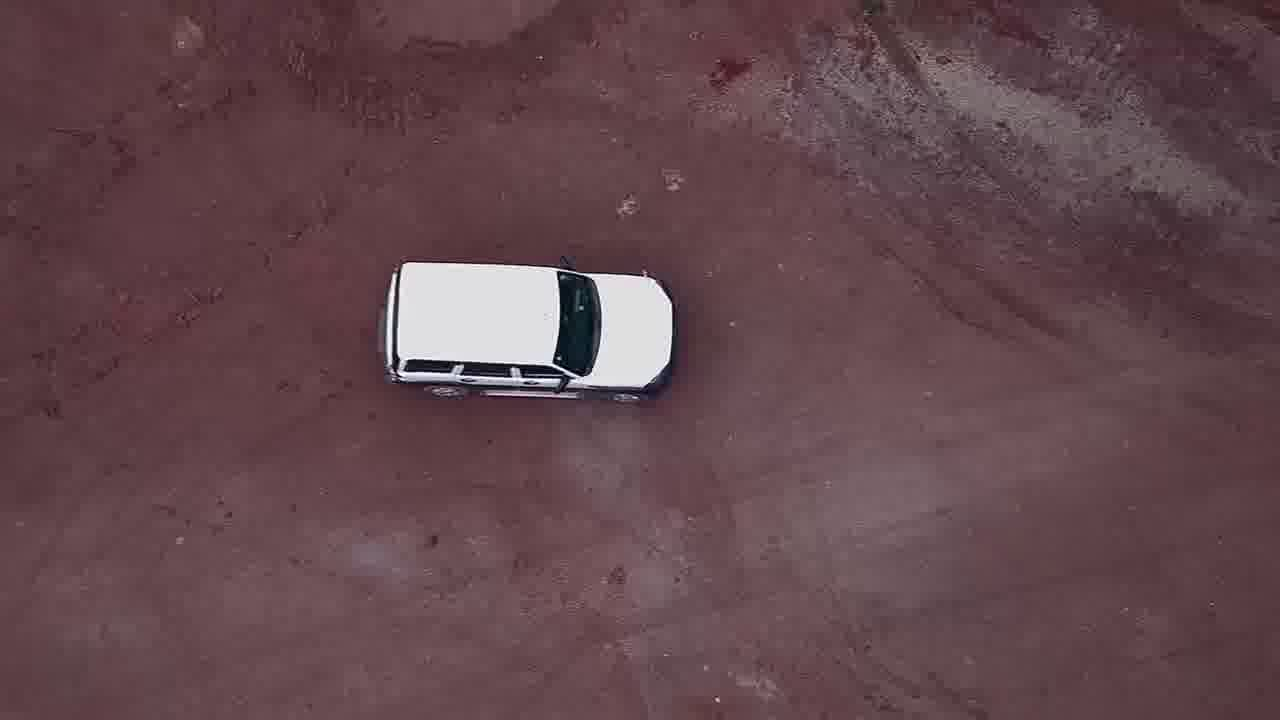light_motor_vehicle: (375, 257, 678, 408)
